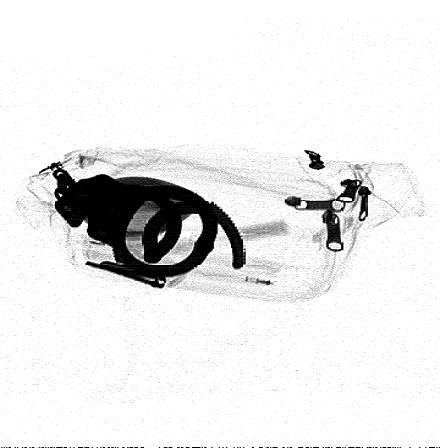HandCuffs: (52, 167, 246, 279)
